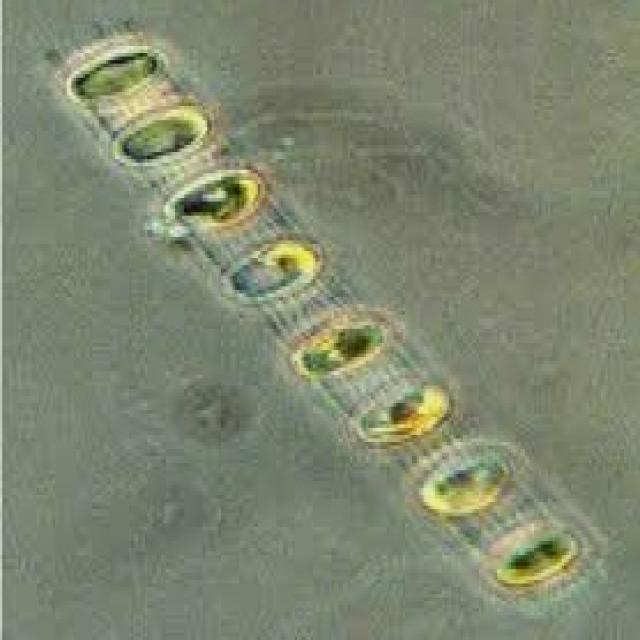Skeletonema: (51, 12, 606, 613)
